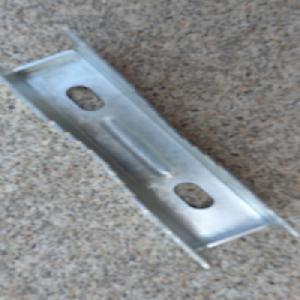ClampPart: (0, 26, 300, 269)
